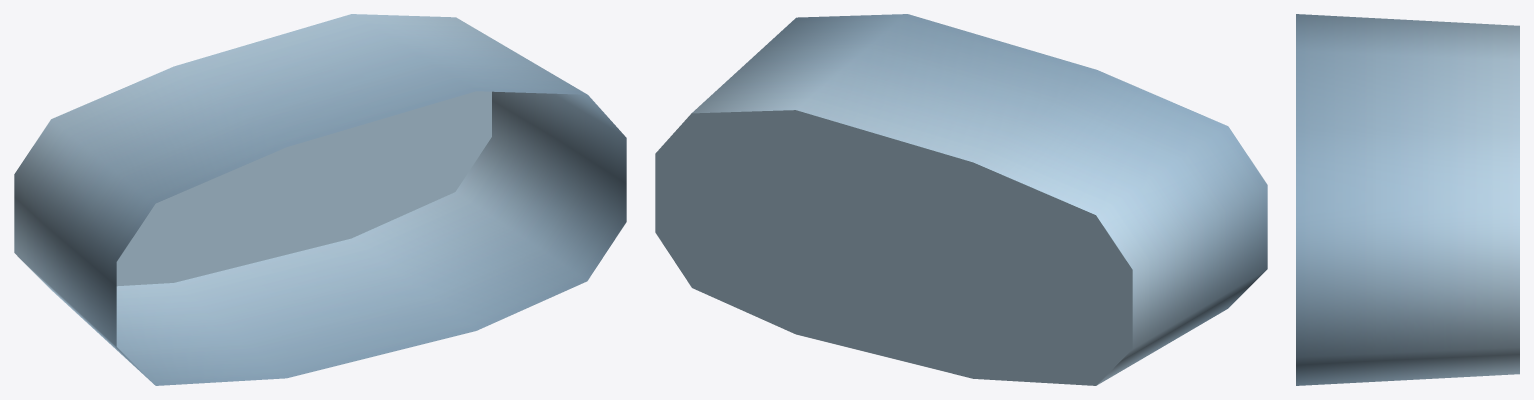
File: Step 01.FBX
The picture shows the model from 3 angles, left to right: view 1: azimuth 30°, elevation 25°; view 2: azimuth 150°, elevation 25°; view 3: azimuth 270°, elevation 25°; orthographic projection. The views are drawn at different scales.
Parts seen in each view (by area): view 1: Step 01; view 2: Step 01; view 3: Step 01.
Boxes of the visible parts, x1=… form: Step 01: x1=14, y1=14, x2=626, y2=385; Step 01: x1=655, y1=14, x2=1267, y2=385; Step 01: x1=1296, y1=14, x2=1519, y2=385.
Bounding box in the file's own units: 219 × 99.02 × 88.26.
1 material, 1 textured.
